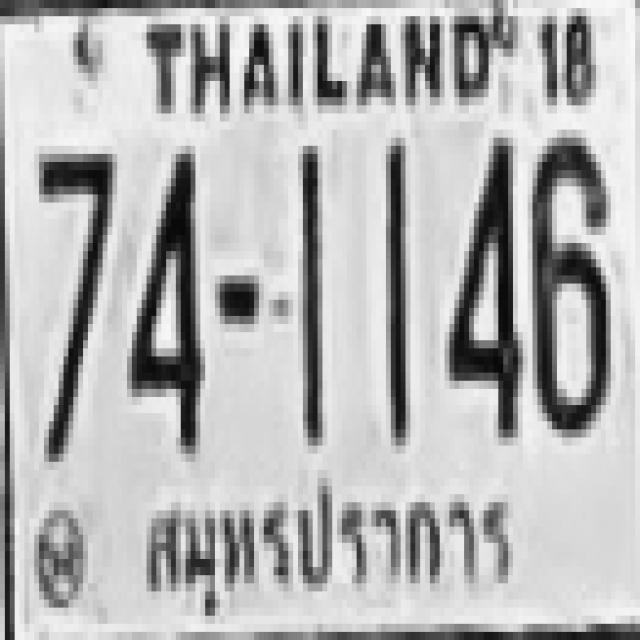1: (381, 134, 406, 442), (296, 142, 320, 441)
4: (444, 130, 518, 429), (127, 146, 200, 445)
6: (528, 130, 606, 429)
7: (34, 146, 112, 454), (34, 146, 112, 356)
SamutPrakan: (138, 480, 520, 598)
